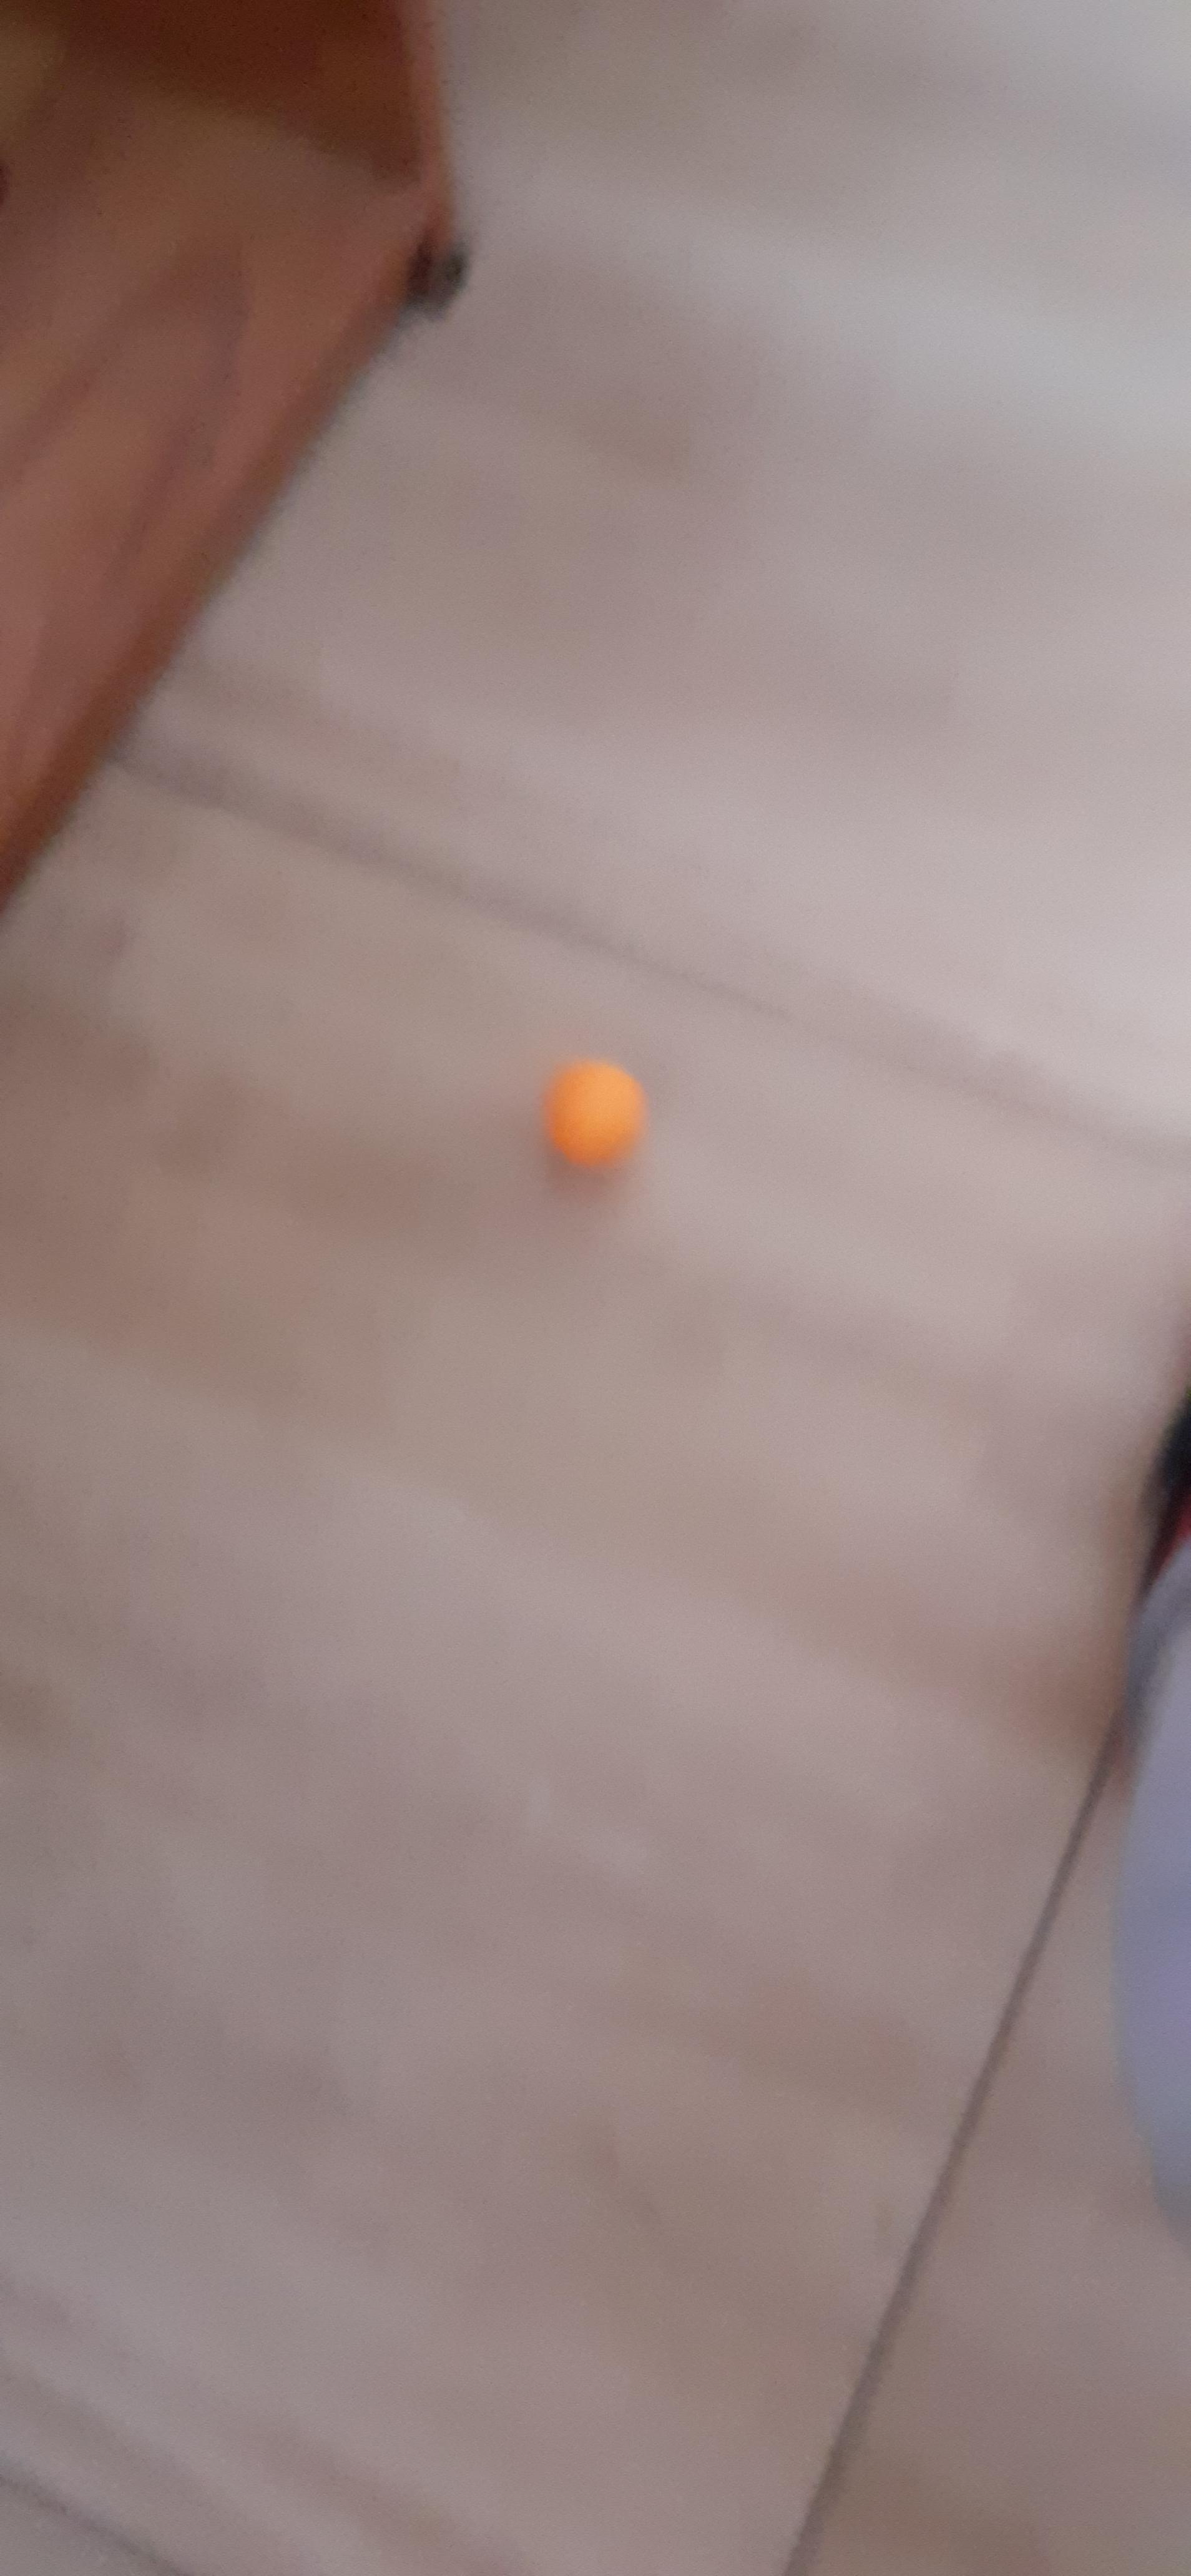orange: (537, 1055, 651, 1189)
